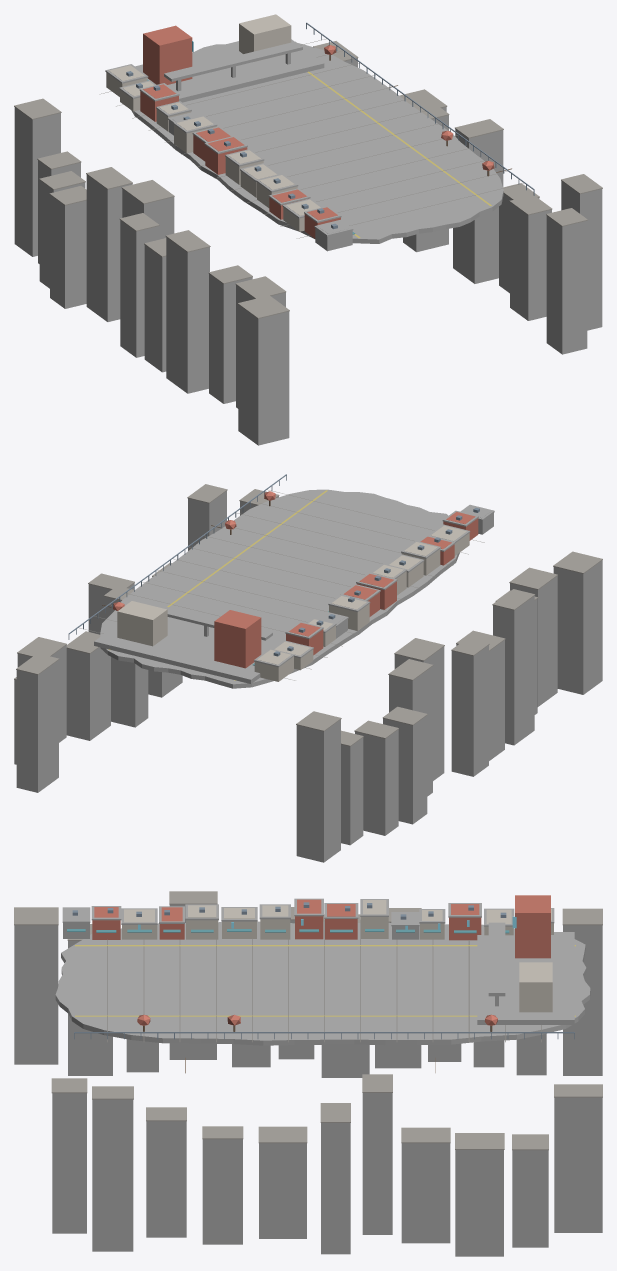
Rendered from split.glb.
3 views of the same model, one above another, from view 1: azimuth 30°, elevation 25°; view 2: azimuth 150°, elevation 25°; view 3: azimuth 270°, elevation 25° (orthographic). The views are drawn at different scales.
Visible parts, largest first — view 1: Static; view 2: Static; view 3: Static.
Part boxes in pixels (x1=…): Static: x1=14, y1=14, x2=602, y2=445; Static: x1=14, y1=474, x2=602, y2=862; Static: x1=14, y1=891, x2=602, y2=1256.
Size of the model in its own units: 36.04 by 17.6 by 42.38.
